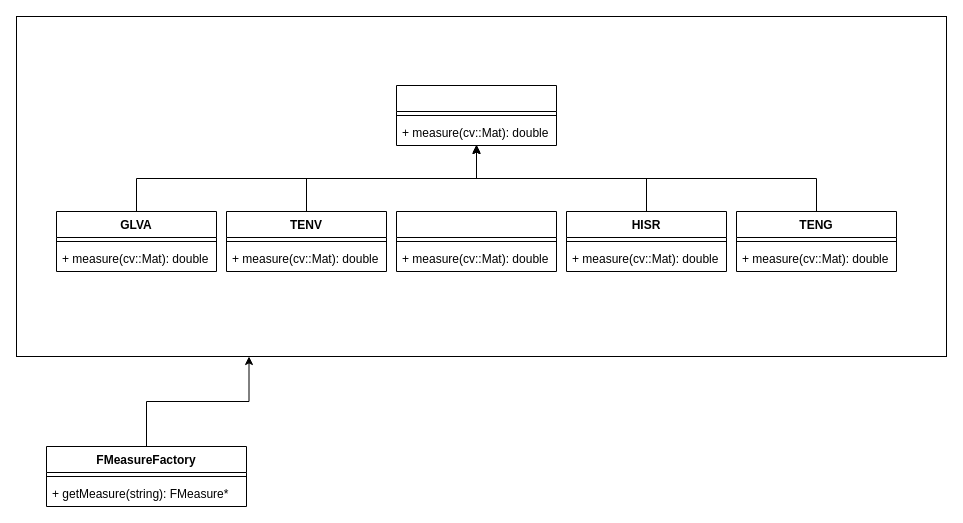
Image size: 963x523. Some labels were removed from this diagram. Each missing label, with the box of its shape:
FMeasure: (396, 84, 556, 146)
GLVN: (396, 210, 556, 272)
